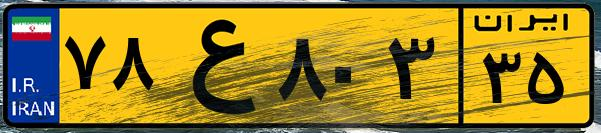0: (330, 28, 385, 110)
3: (385, 28, 445, 110), (475, 38, 525, 113)
5: (525, 38, 570, 115)
7: (57, 26, 110, 100)
8: (270, 28, 330, 110), (110, 28, 158, 98)
ع: (158, 12, 270, 120)
